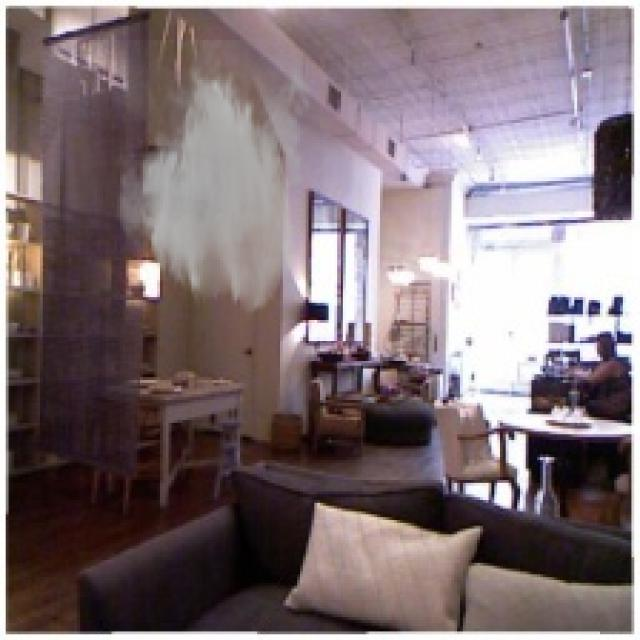smoke: (112, 40, 317, 317)
